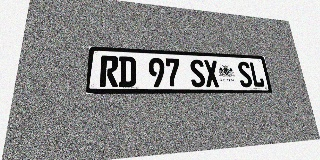7: (164, 58, 181, 87)
9: (148, 57, 165, 87)
D: (119, 56, 136, 87)
L: (249, 62, 265, 87)
R: (100, 55, 118, 87)
S: (189, 59, 206, 87), (237, 61, 253, 87)
X: (203, 60, 220, 87)
